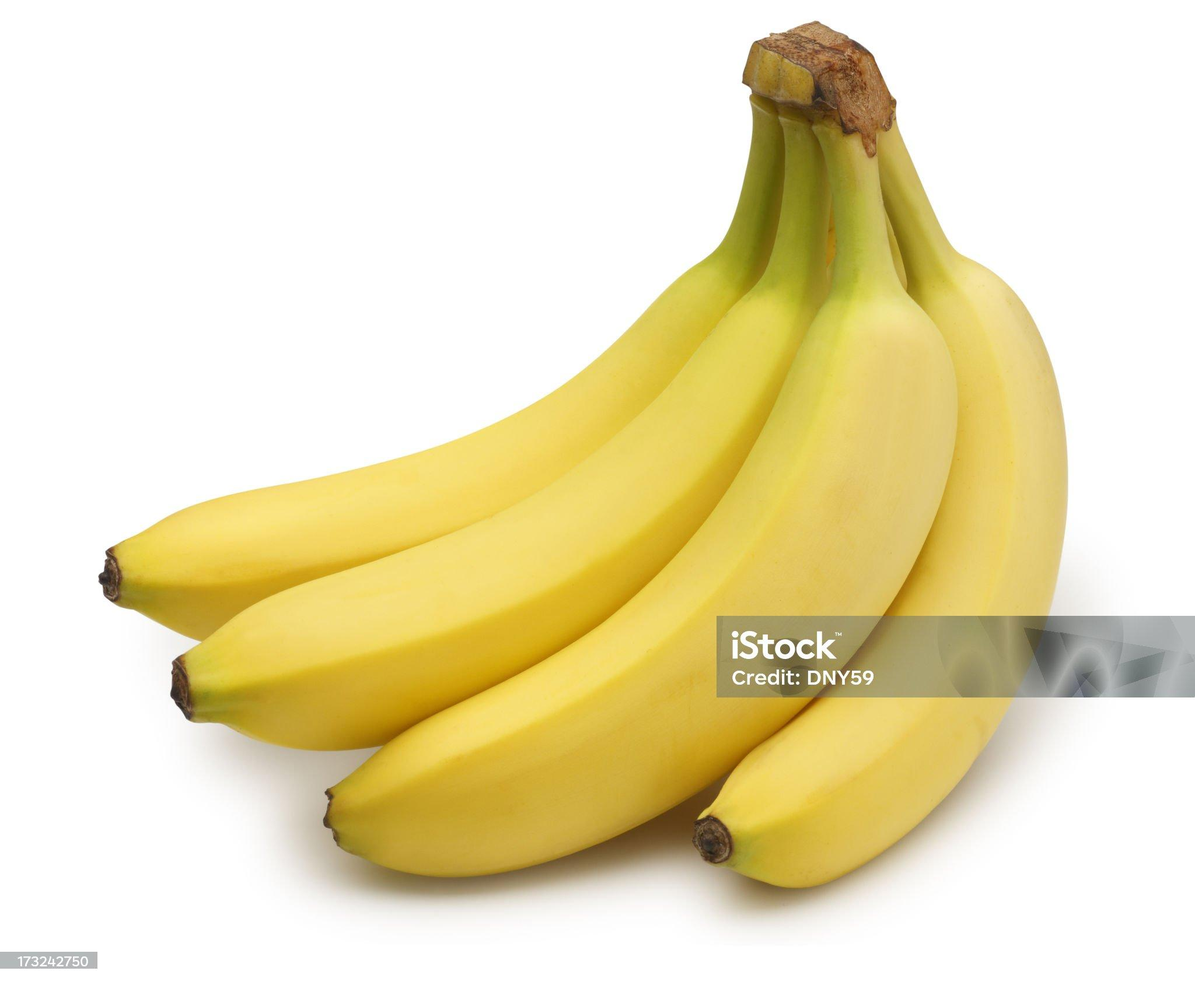banana: (14, 6, 1089, 982)
